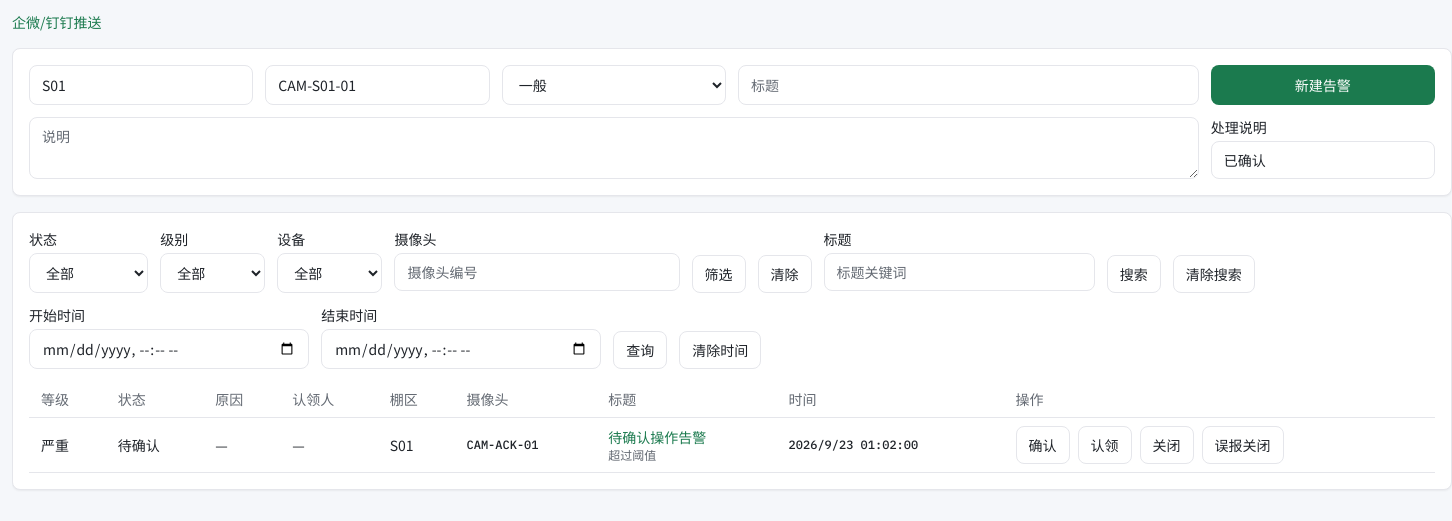
Test: AlertsView › confirms then closes the same list row
This screenshot has width=1452, height=521.
Expected: the cell with test id "alert-status" reads "待确认", [118, 435, 160, 455]
Expected: the button with test id "alert-close" reads "关闭", [1140, 426, 1194, 464]
Click the button with test id "alert-ack" at (1042, 445), box [1016, 426, 1070, 464]
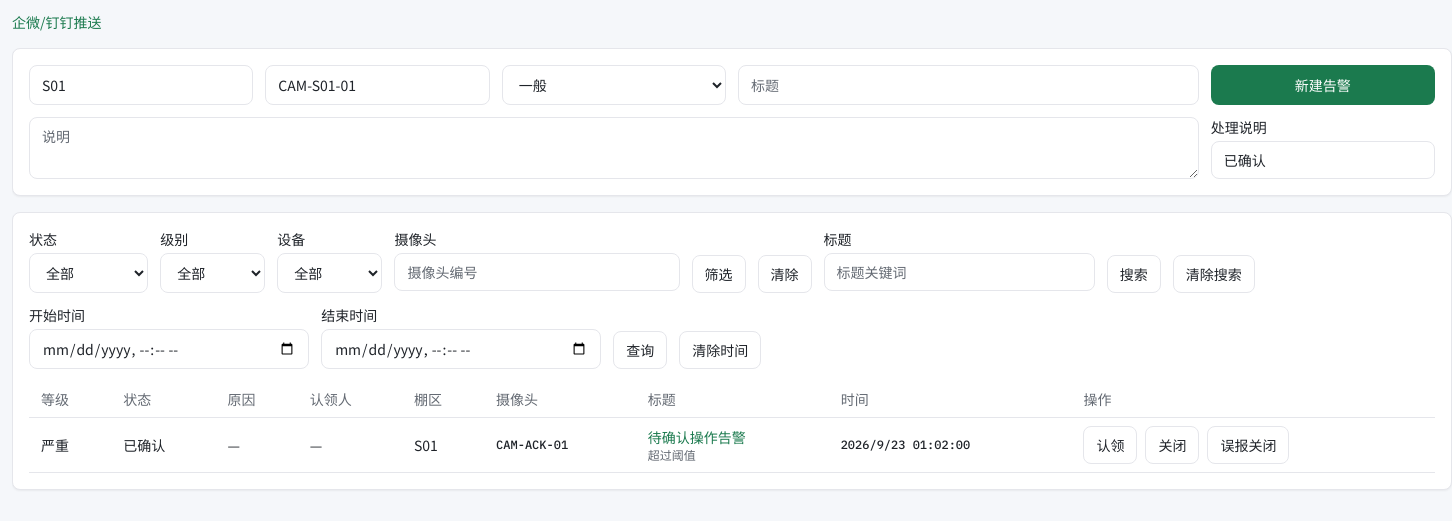
Result: the cell with test id "alert-status" reads "已确认" at [123, 435, 165, 455]
Click the button with test id "alert-close" at (1172, 445), box [1145, 426, 1199, 464]
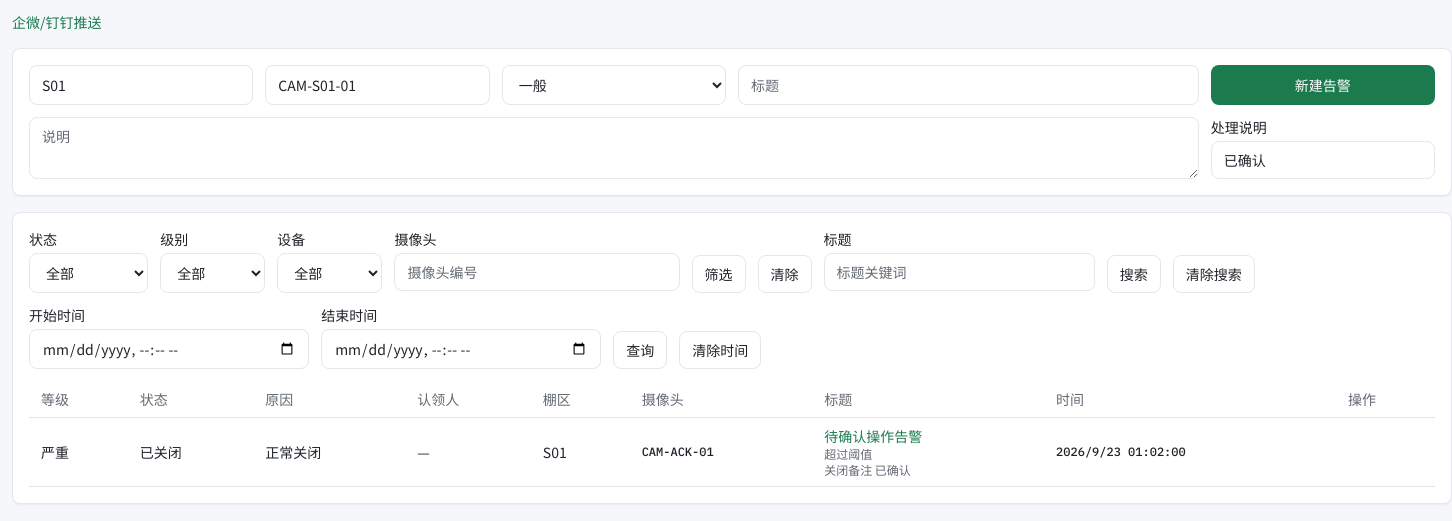
Result: the cell with test id "alert-status" reads "已关闭" at [140, 442, 182, 462]
Result: the text "正常关闭" is shown at [253, 418, 405, 486]
